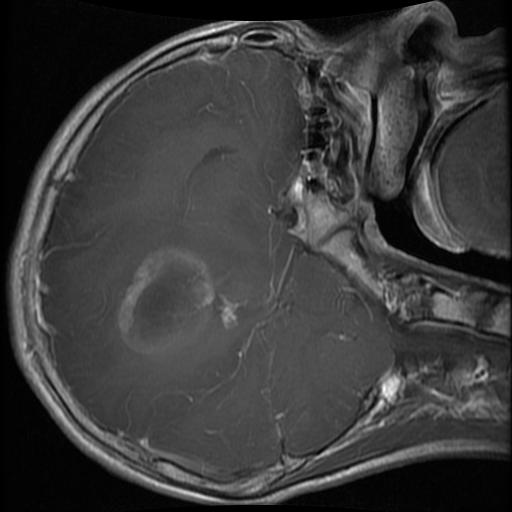glioma: (116, 245, 248, 358)
